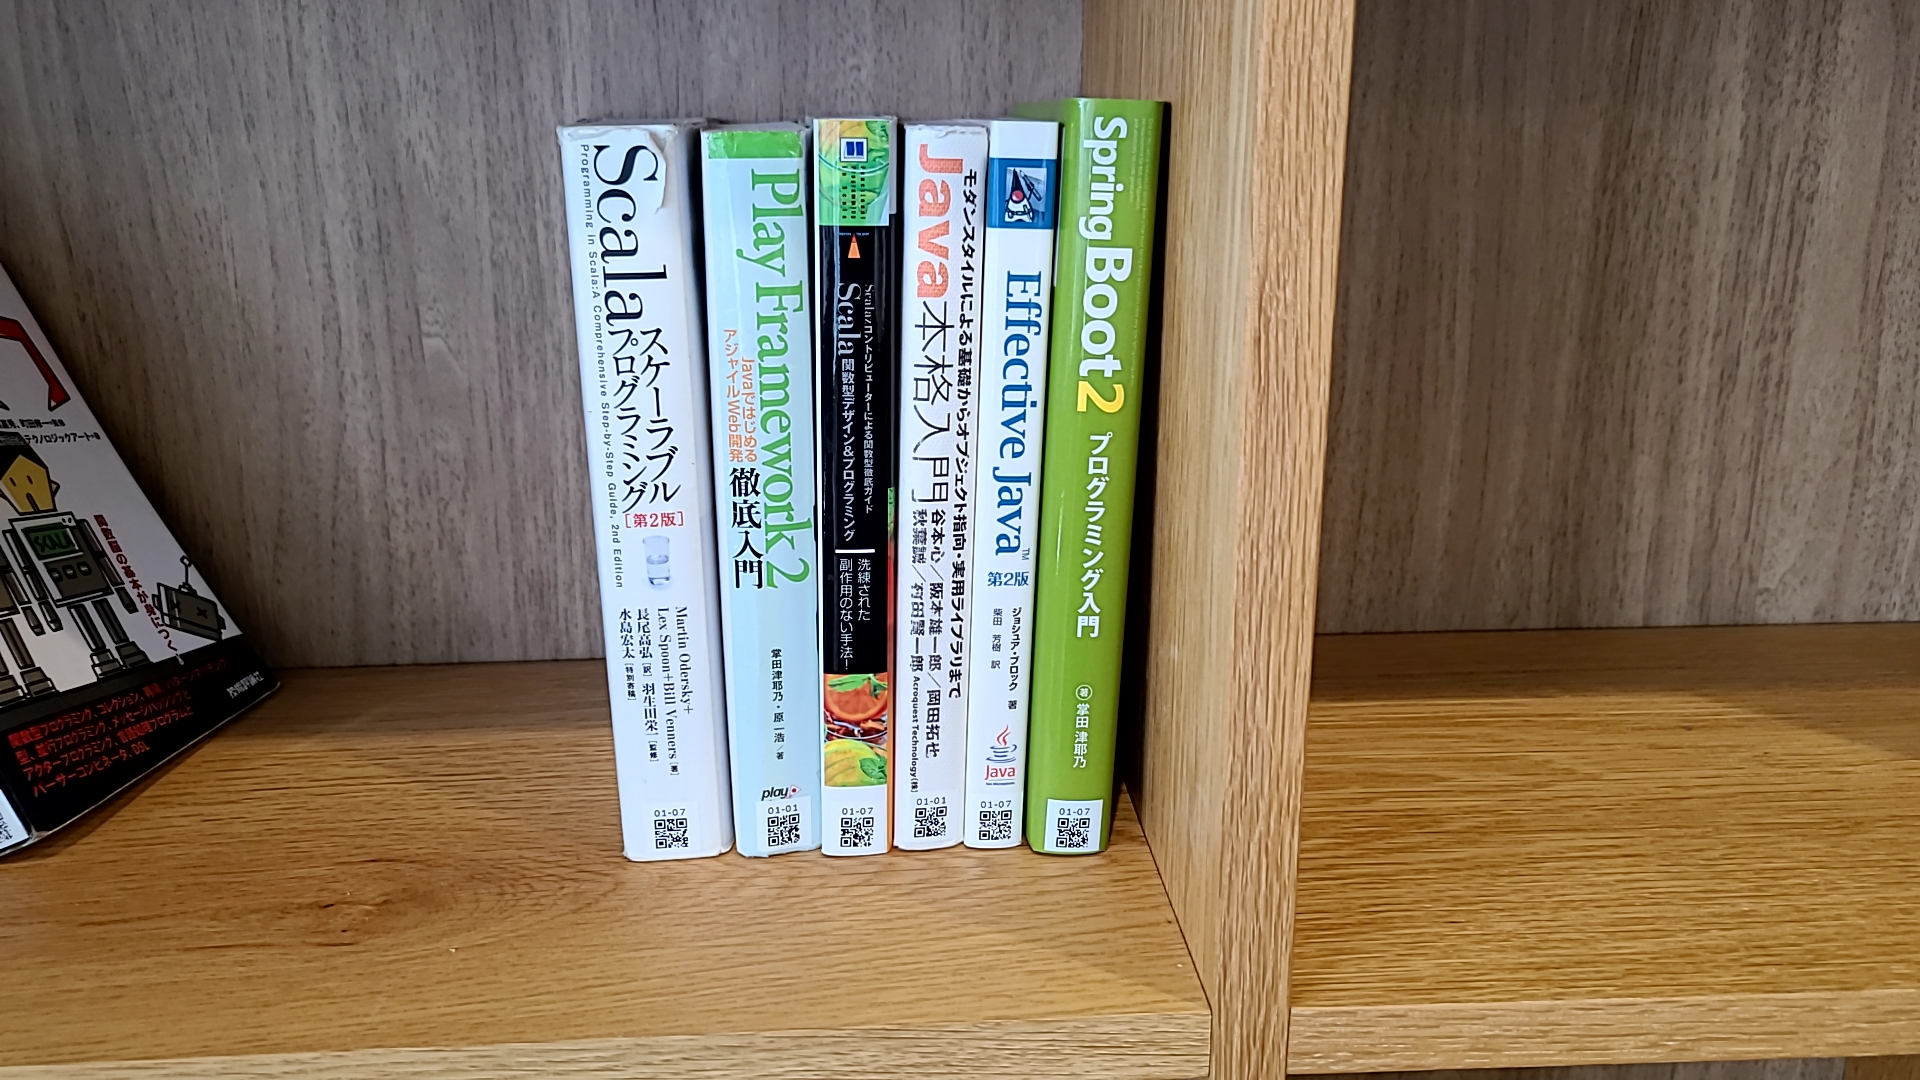book: (568, 116, 700, 870), (1036, 73, 1158, 868), (708, 116, 829, 866), (804, 104, 905, 861), (975, 113, 1060, 855), (898, 117, 981, 855)
